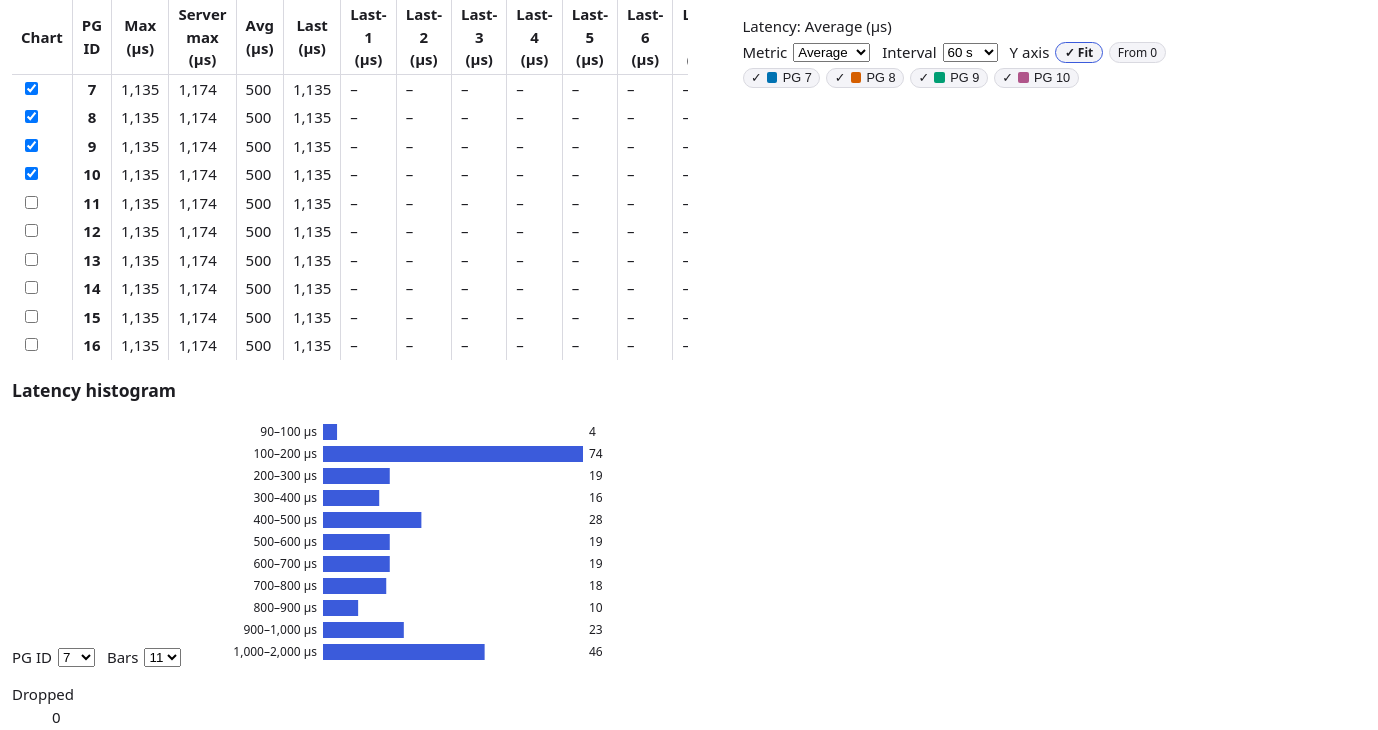
Test: LatencyTab table › describes a blocked checkbox by the per-tab cap reason
Step 1. Click the checkbox named "Chart PG ID 11" → (32, 202), box [25, 196, 38, 208]
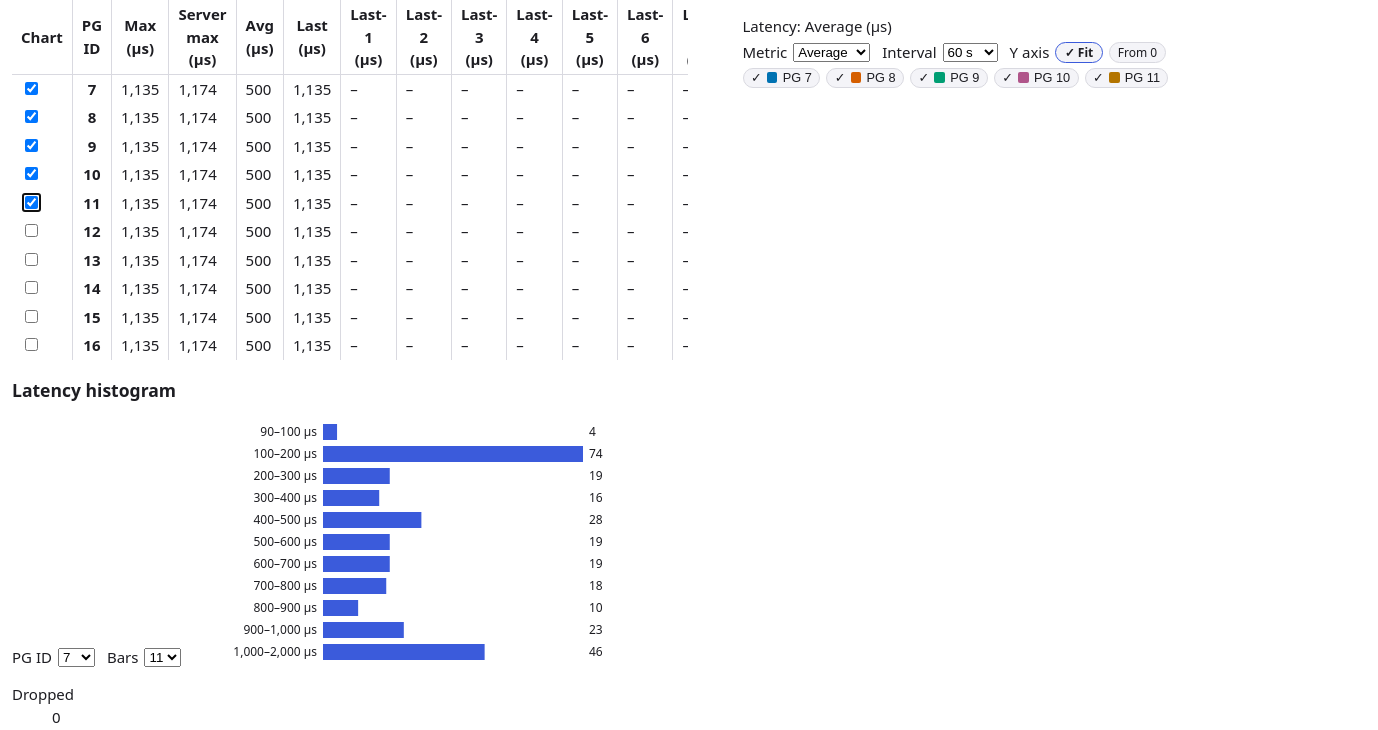
Step 2. Click the checkbox named "Chart PG ID 12" → (32, 230), box [25, 224, 38, 237]
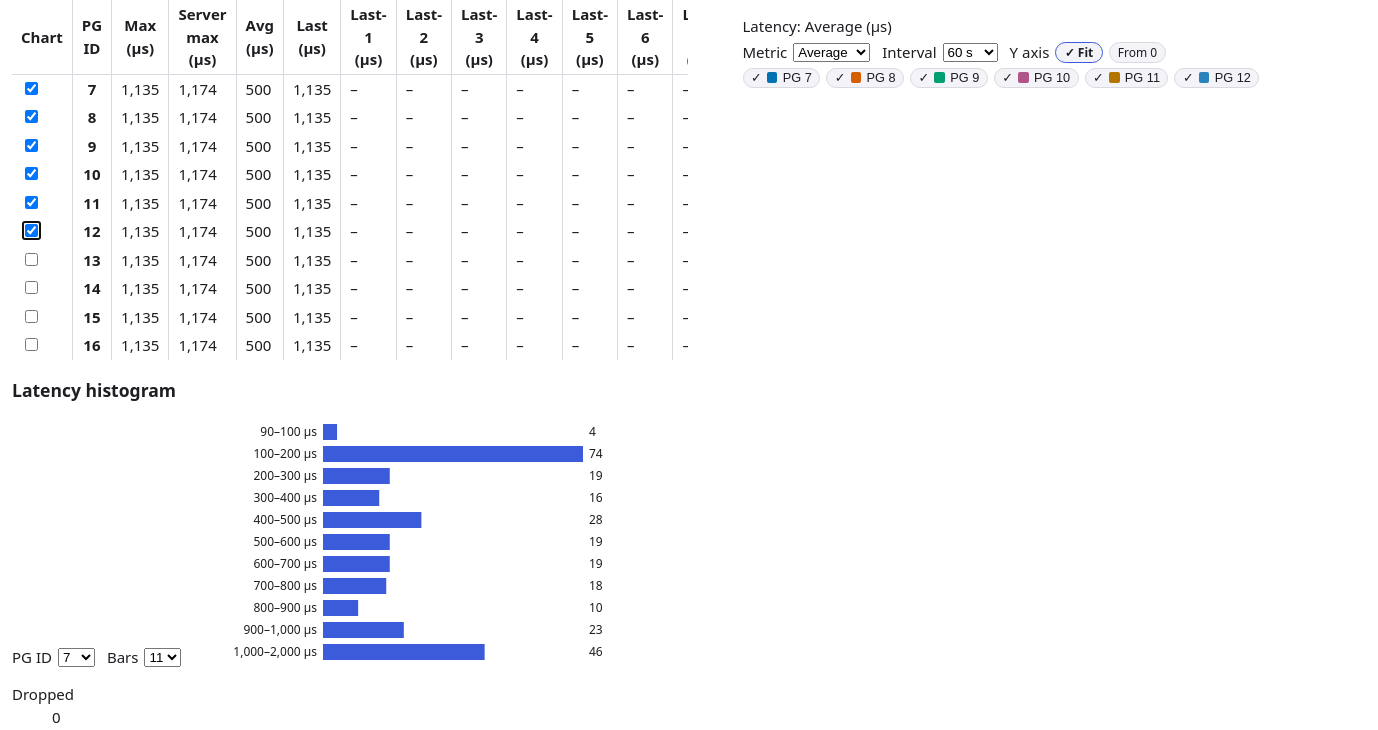
Step 3. Click the checkbox named "Chart PG ID 13" → (32, 259), box [25, 252, 38, 266]
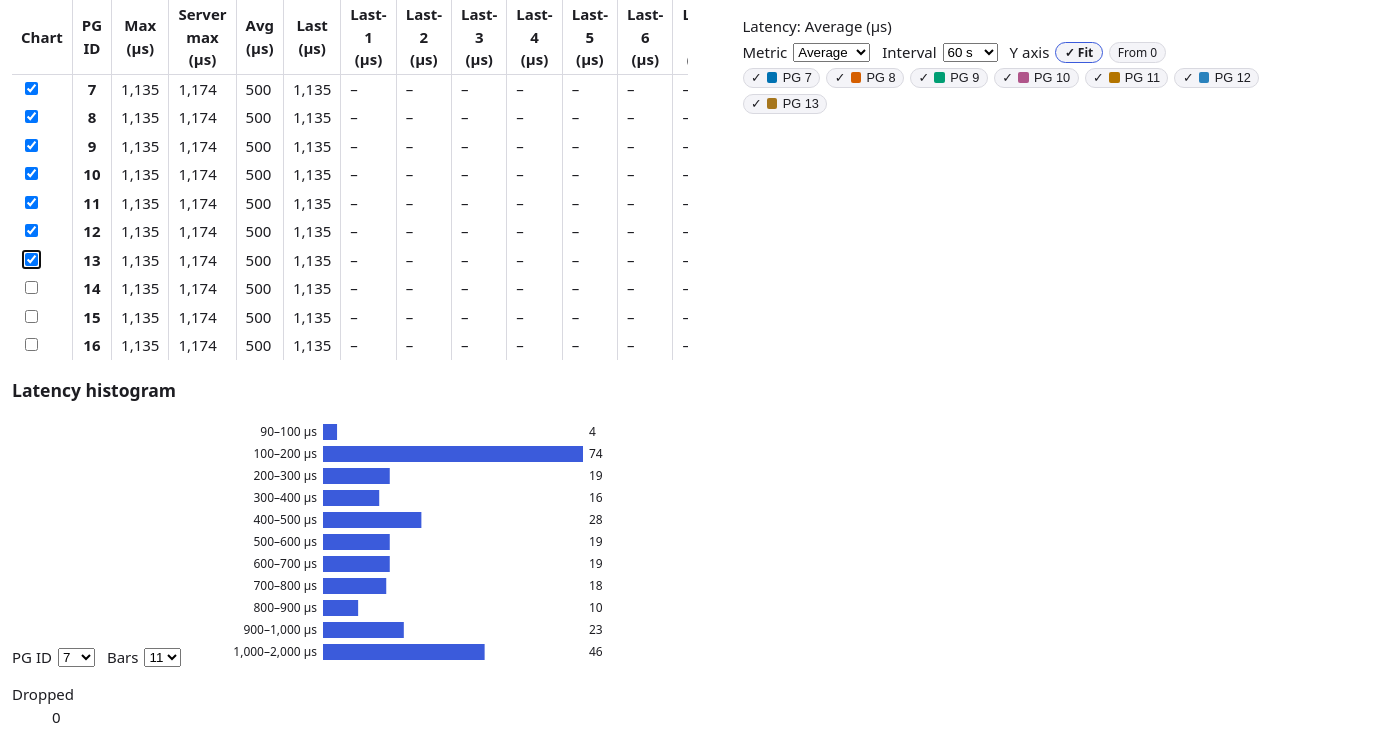
Step 4. Click the checkbox named "Chart PG ID 14" → (32, 288), box [25, 281, 38, 294]
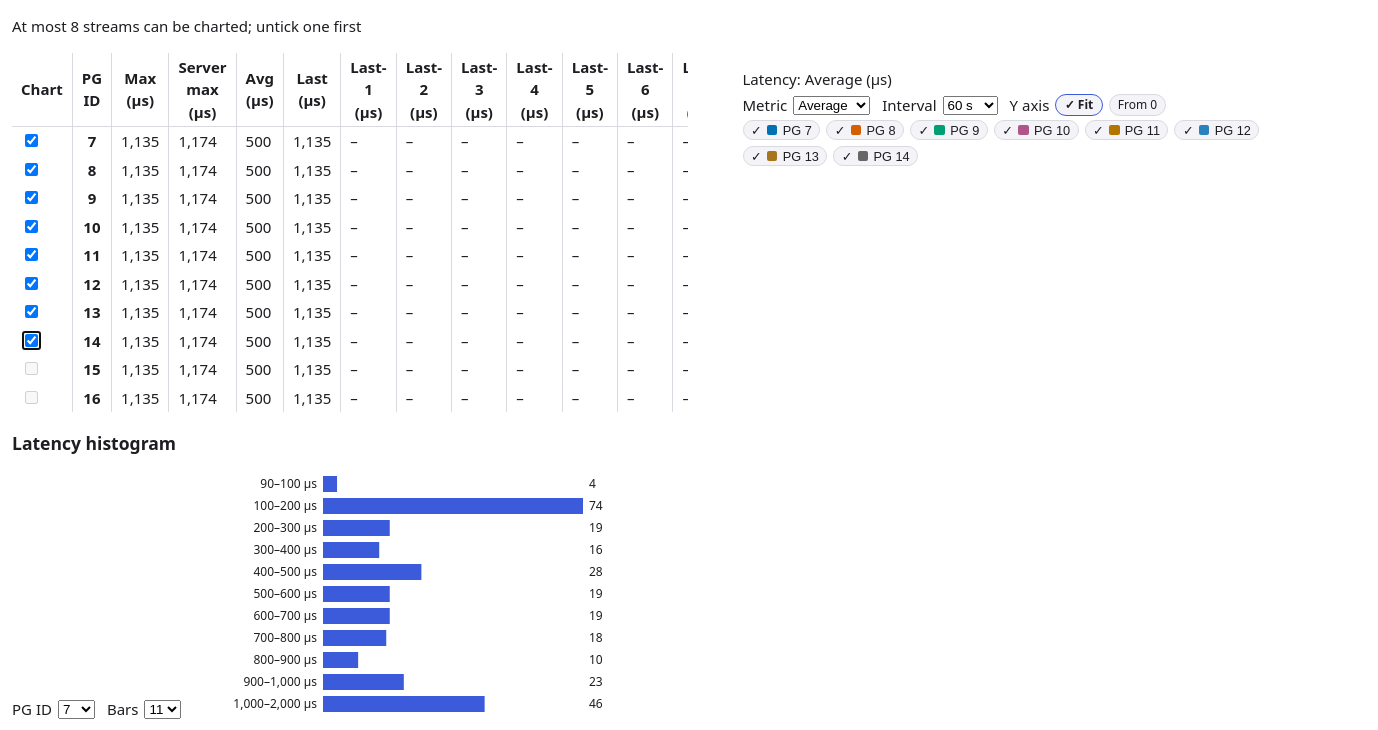
expect the text "At most 8 streams can be charted; untick one first" is shown: met, box [12, 16, 361, 36]
